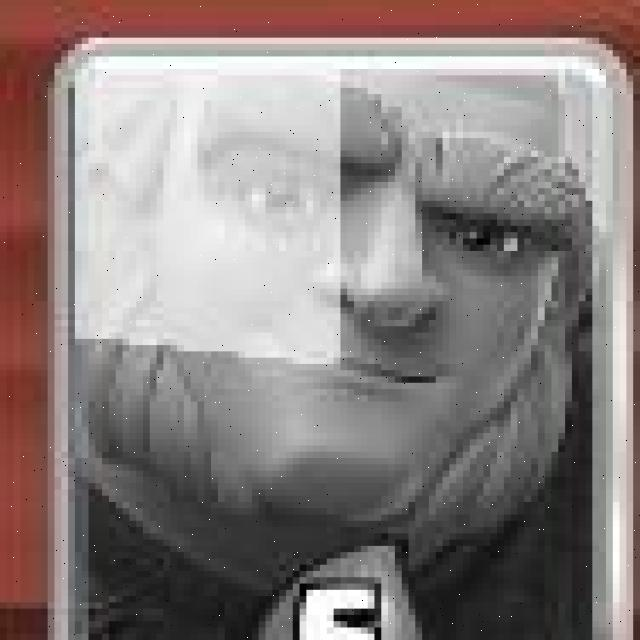Giant: (48, 41, 640, 640)
